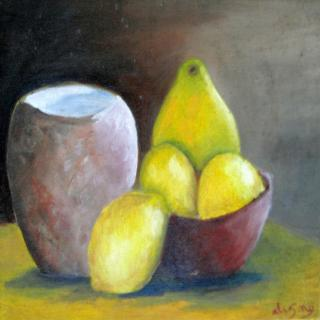Pear: (152, 56, 238, 176), (87, 190, 170, 294), (137, 142, 199, 218), (196, 153, 267, 219)
